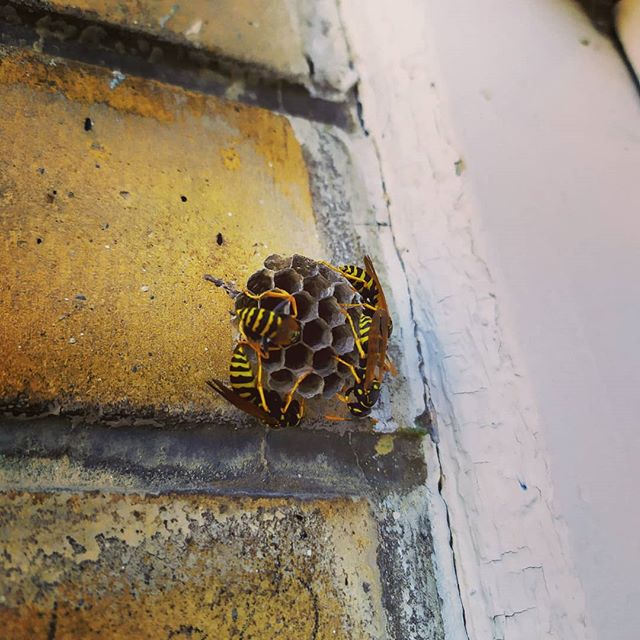insect: (167, 236, 424, 461)
